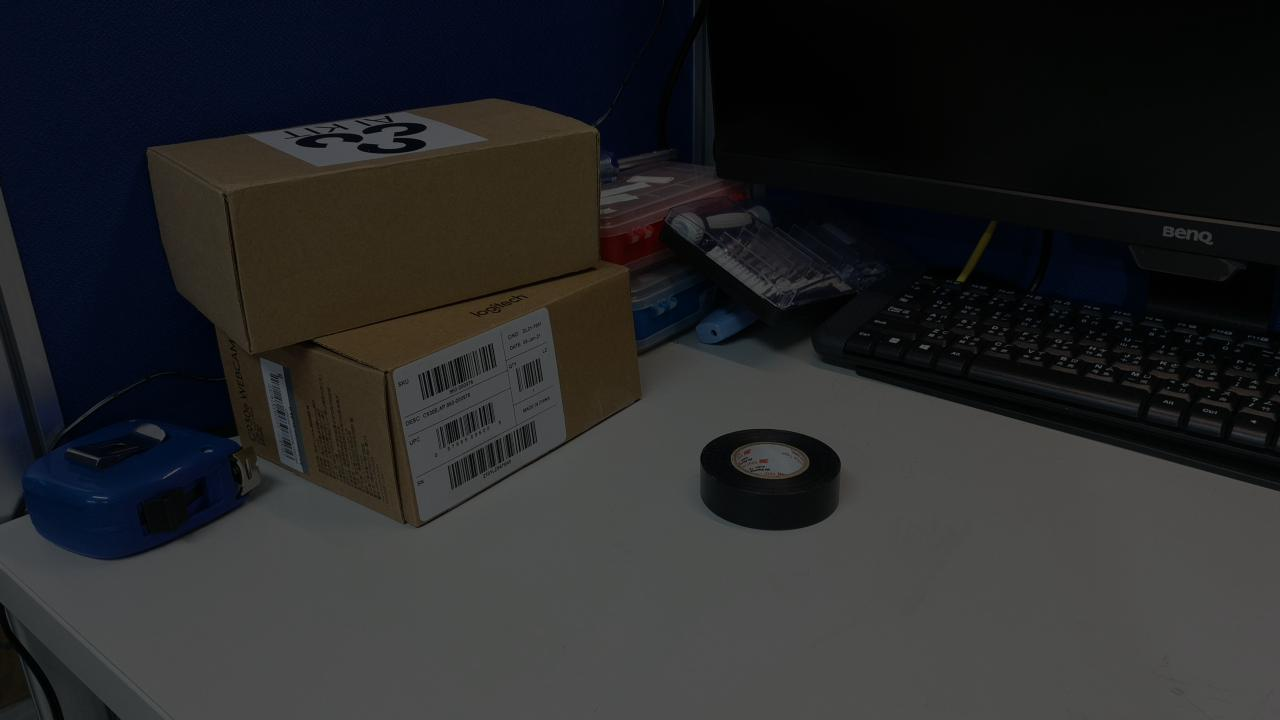columnar: (775, 237, 956, 466)
grip: (716, 286, 799, 421)
